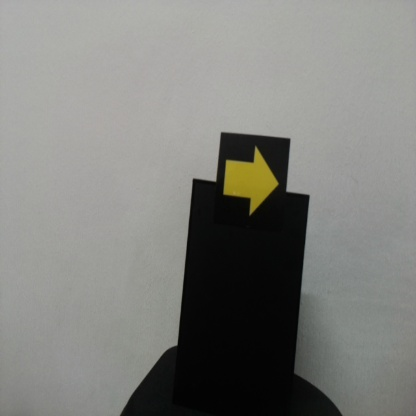id_3: (219, 135, 287, 228)
